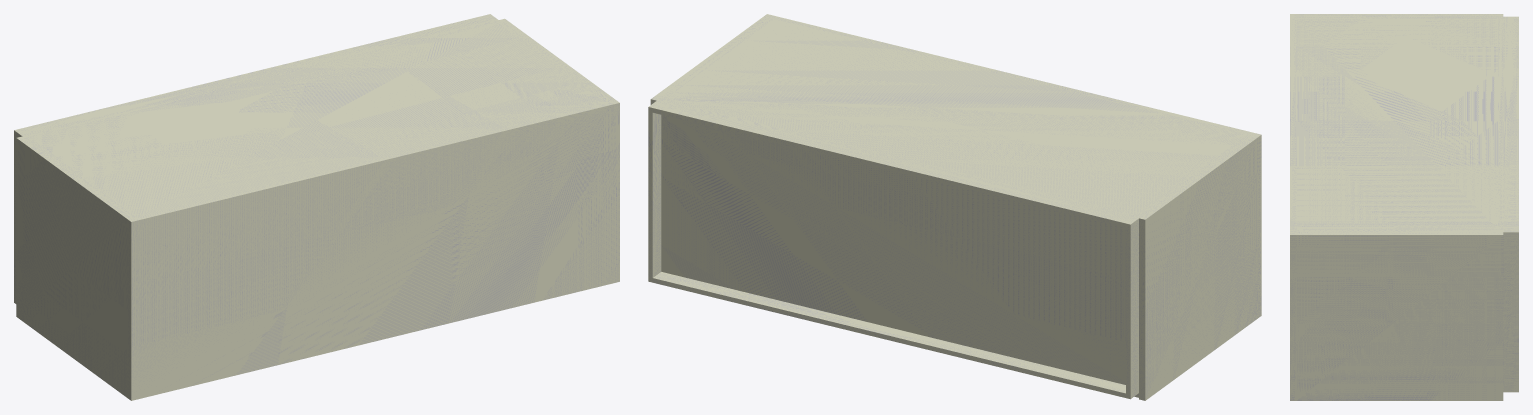
3 views of the same model, side by side, from view 1: azimuth 30°, elevation 25°; view 2: azimuth 150°, elevation 25°; view 3: azimuth 270°, elevation 25° (orthographic). The views are drawn at different scales.
Parts seen in each view (by area): view 1: mesh5_mesh5-geometry; view 2: mesh5_mesh5-geometry; view 3: mesh5_mesh5-geometry.
Part boxes in pixels (bbox=[...]): mesh5_mesh5-geometry: bbox=[14, 14, 619, 400]; mesh5_mesh5-geometry: bbox=[648, 14, 1261, 400]; mesh5_mesh5-geometry: bbox=[1290, 14, 1518, 400].
Bounding box in the file's own units: 0.8724 × 0.3053 × 0.3817.
